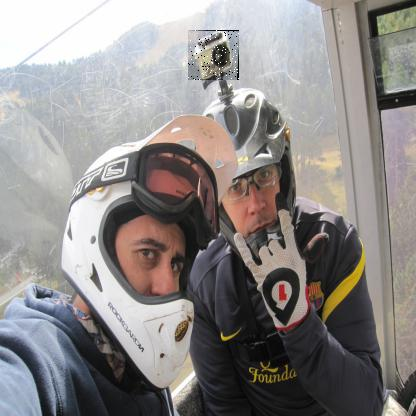Camera: (189, 31, 241, 82)
